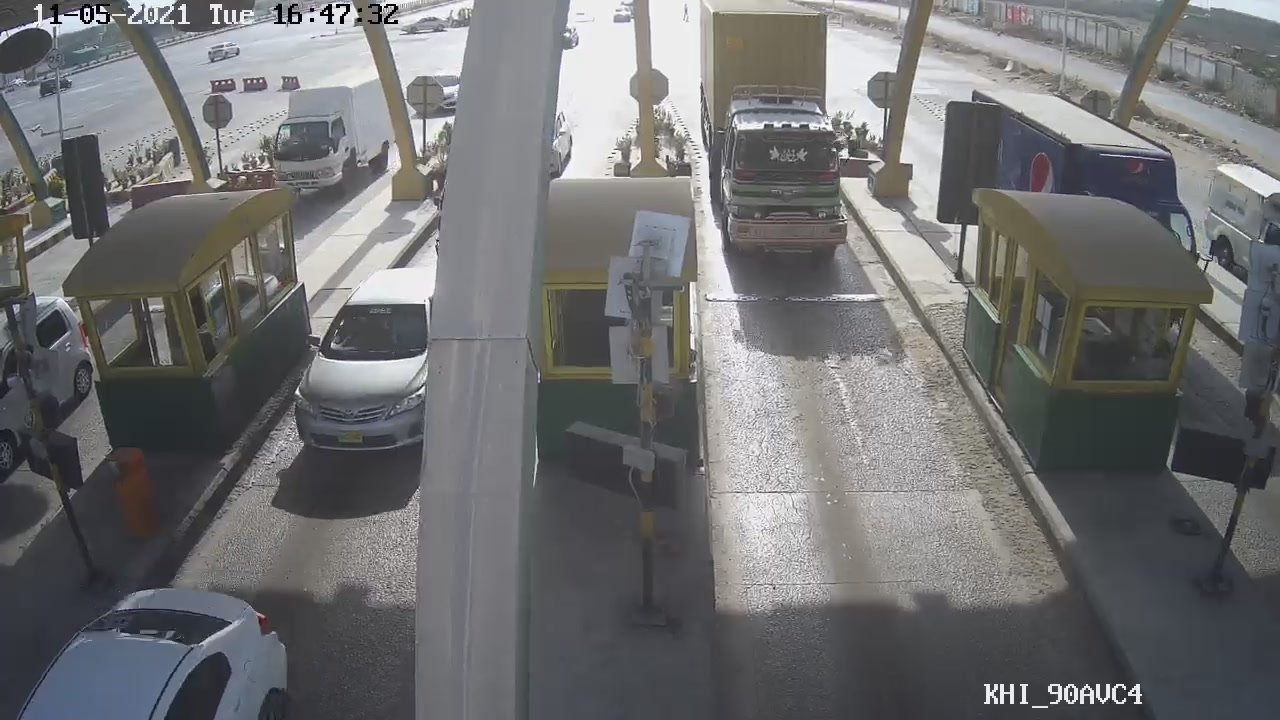F6: (679, 1, 881, 261)
